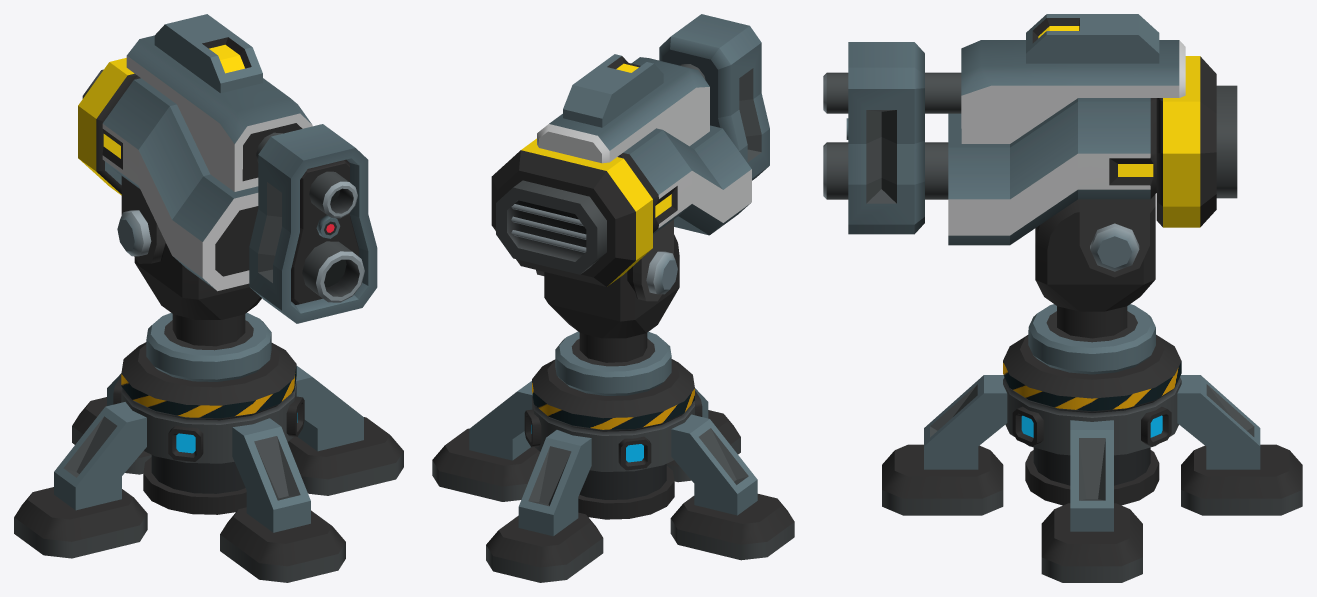
Rendered from Turret_009.glb.
The picture shows the model from 3 angles, left to right: view 1: azimuth 30°, elevation 25°; view 2: azimuth 150°, elevation 25°; view 3: azimuth 270°, elevation 25°; orthographic projection. The views are drawn at different scales.
Parts seen in each view (by area): view 1: Turret_009, Turret_009_body_001; view 2: Turret_009, Turret_009_body_001; view 3: Turret_009_body_001, Turret_009.
Boxes of the visible parts, bbox=[...] form: Turret_009: bbox=[14, 244, 403, 582]; Turret_009_body_001: bbox=[78, 14, 377, 323]; Turret_009: bbox=[432, 234, 794, 582]; Turret_009_body_001: bbox=[491, 14, 769, 301]; Turret_009_body_001: bbox=[823, 14, 1237, 277]; Turret_009: bbox=[882, 194, 1302, 582].
Size of the model in its own units: 1.41 by 1.74 by 1.61.
Materials: 2 (2 with a texture image).
